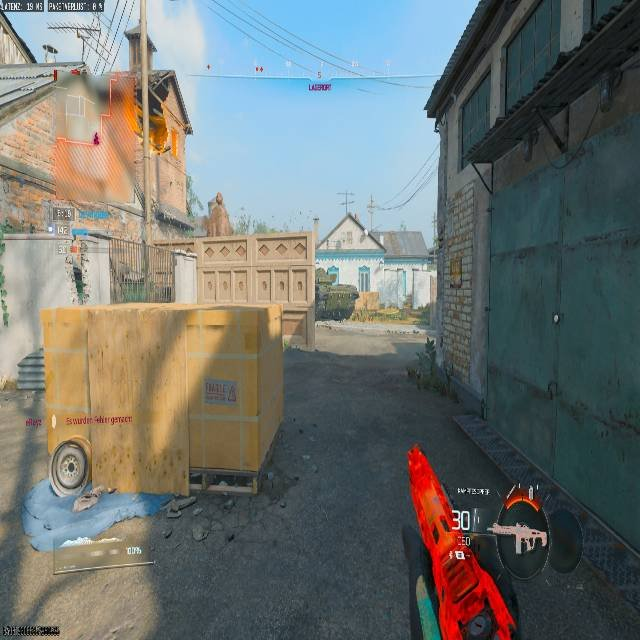player: (67, 247, 90, 304)
